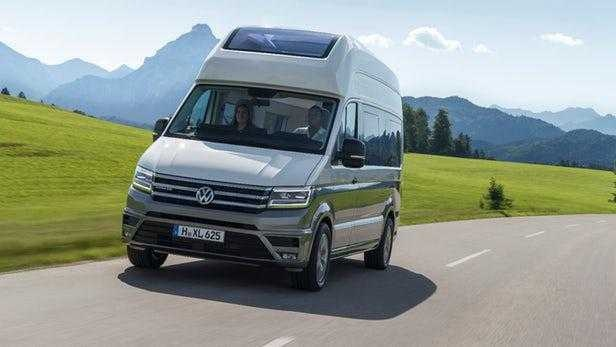van: (121, 23, 405, 292)
